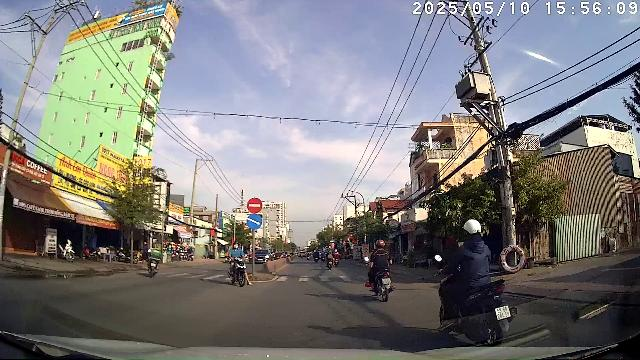102-cam-di-nguoc-chieu: (247, 197, 263, 213)
302a-huong-phai-di-vong-chuong-ngai-vat-1: (246, 214, 262, 230)
